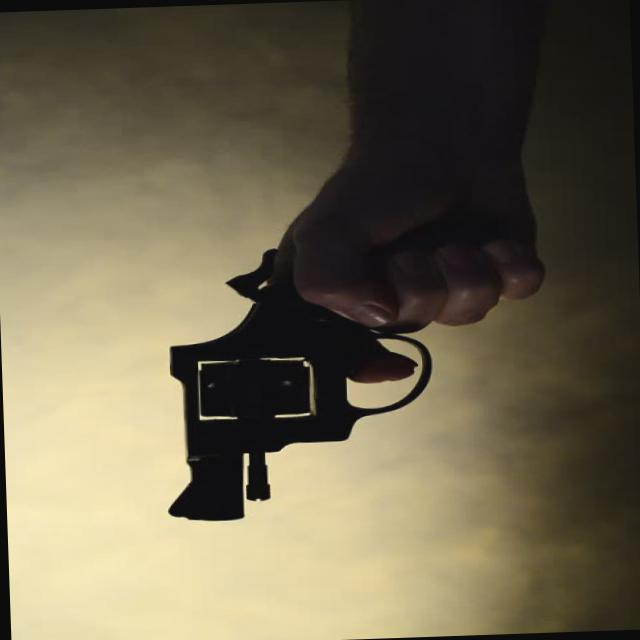handgun: (154, 237, 438, 523)
